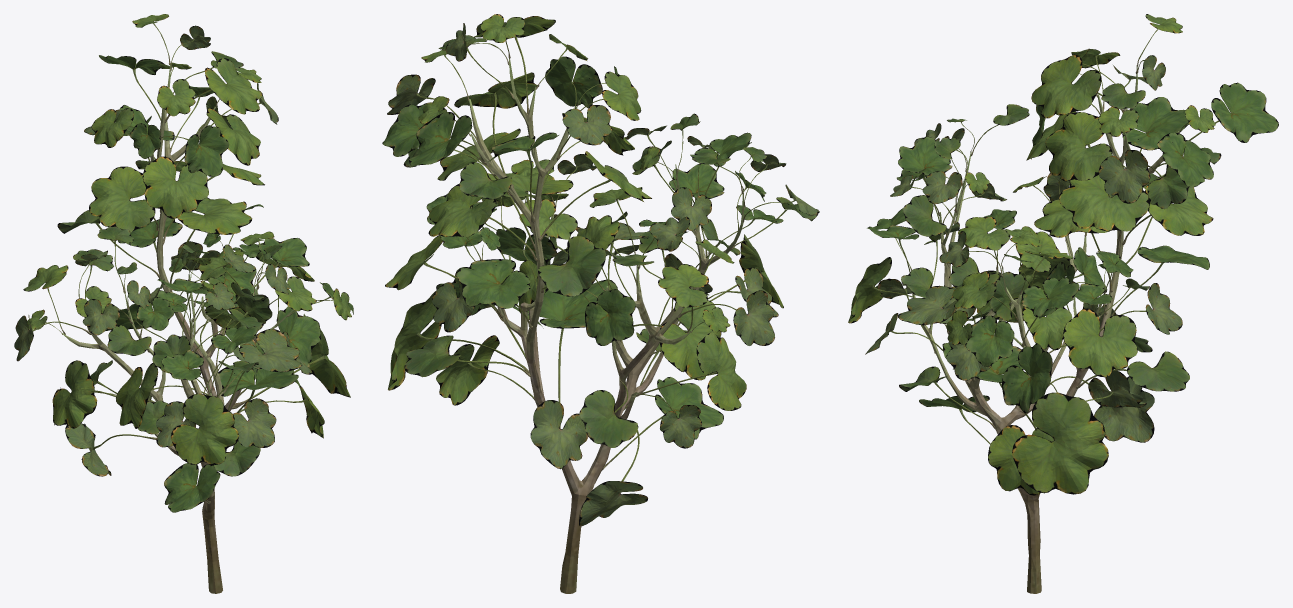
Rendered from floor-a.glb.
3 views of the same model, side by side, from view 1: azimuth 30°, elevation 25°; view 2: azimuth 150°, elevation 25°; view 3: azimuth 270°, elevation 25° (orthographic). The views are drawn at different scales.
Size of the model in its own units: 0.5874 by 0.9254 by 0.6336.
Materials: 2 (2 with a texture image).
